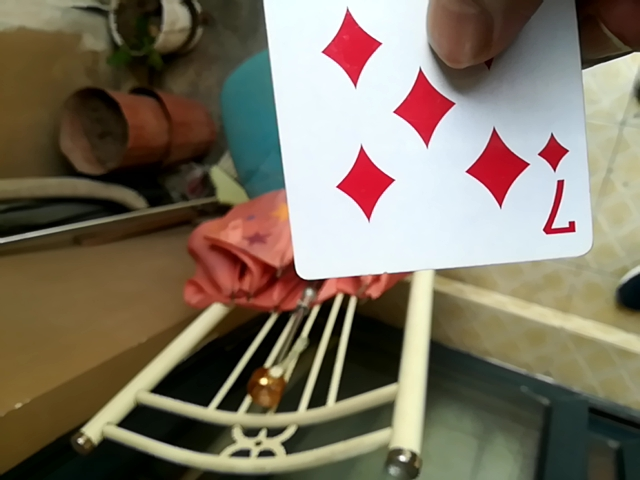fk 7: (249, 2, 597, 286)
